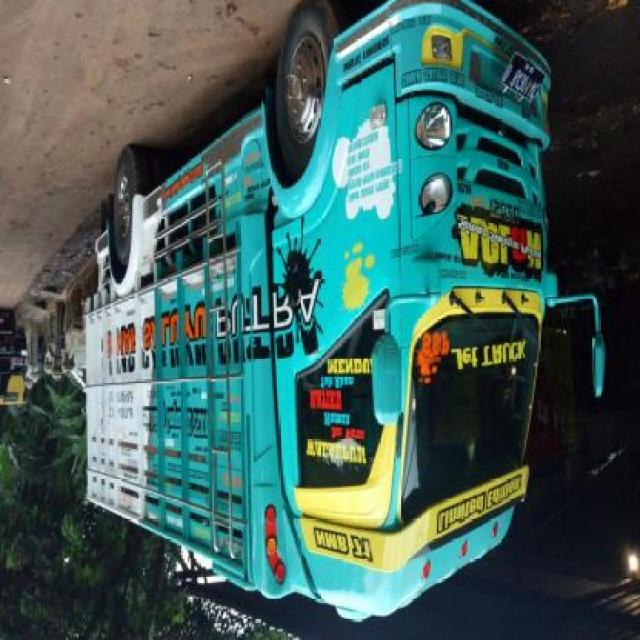truck: (83, 2, 605, 631)
